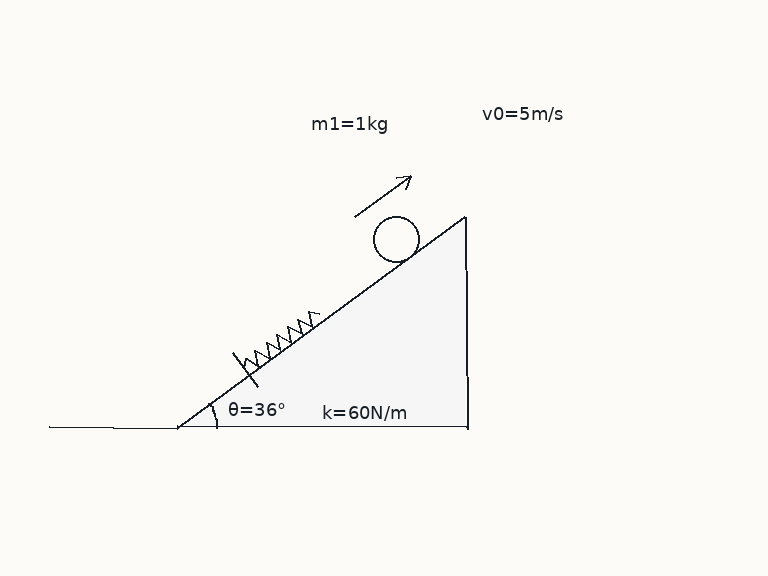ball: (371, 214, 421, 264)
ramp: (175, 215, 468, 429)
spring: (242, 309, 321, 369)
